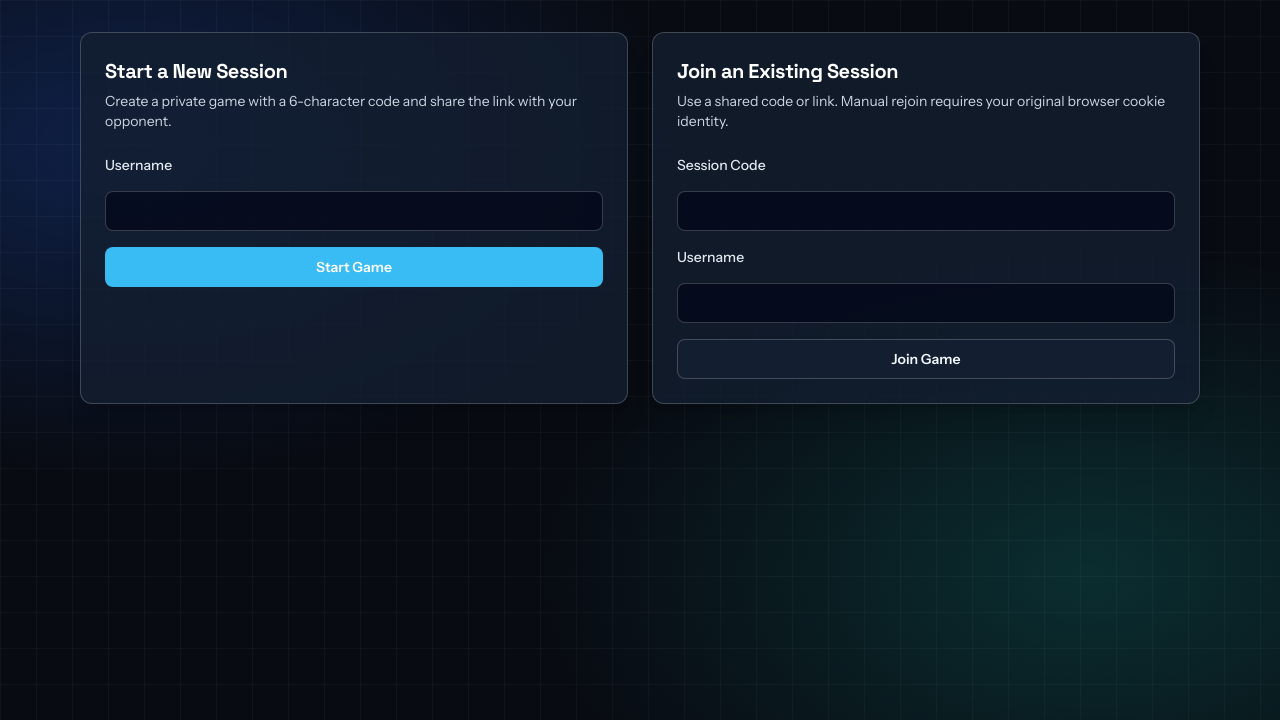
Scenario: LobbyPage › shows validation when starting with empty username
What coordinates should you click on to do the following:
click the button "Start Game"
I would click on:
 (354, 267)
Its box is x1=105 y1=247 x2=603 y2=287.
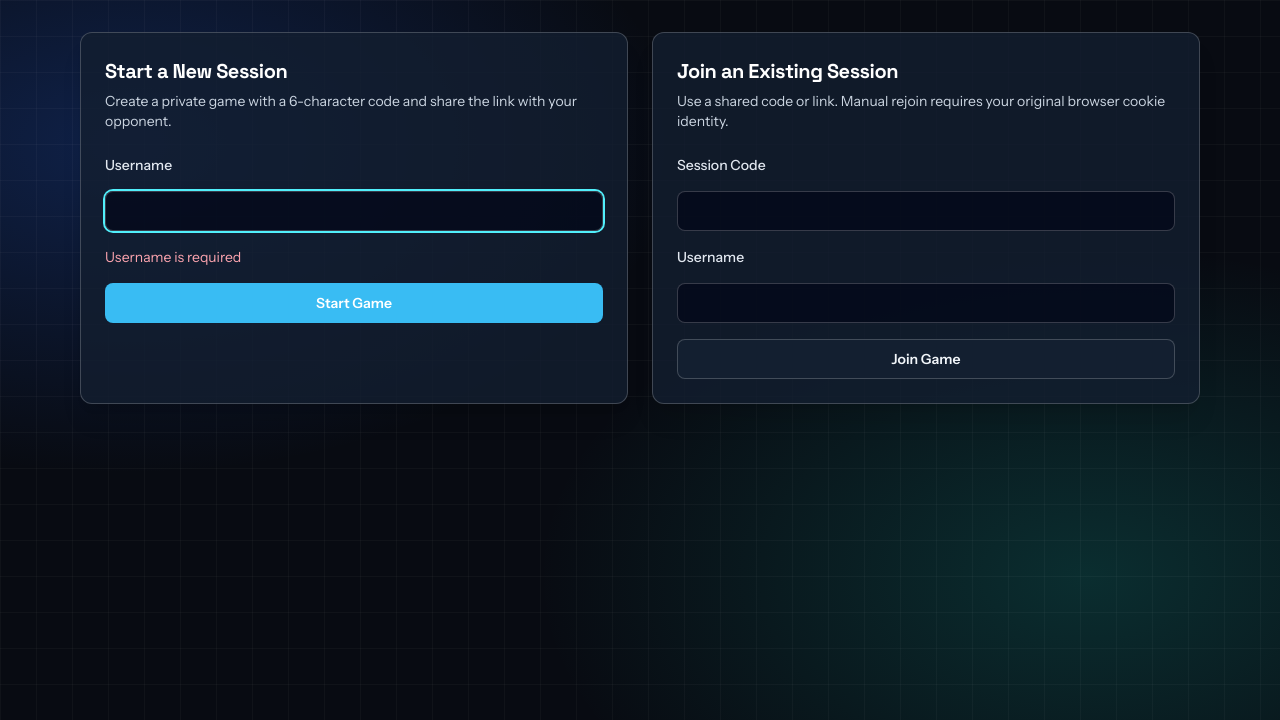
Now the text "Username is required" is shown, box x1=105 y1=248 x2=241 y2=266
